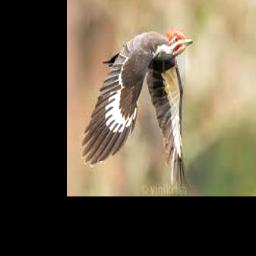Woodpecker: (81, 31, 193, 185)
